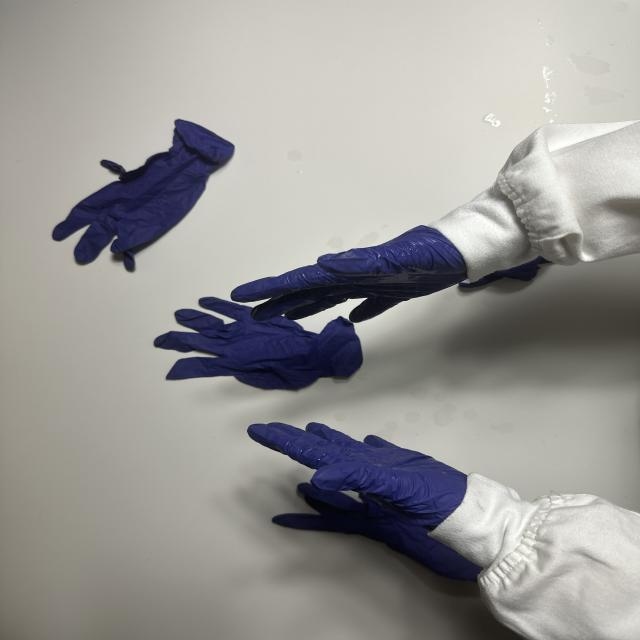gloves_contaminated: (248, 422, 467, 528), (231, 226, 467, 323)
